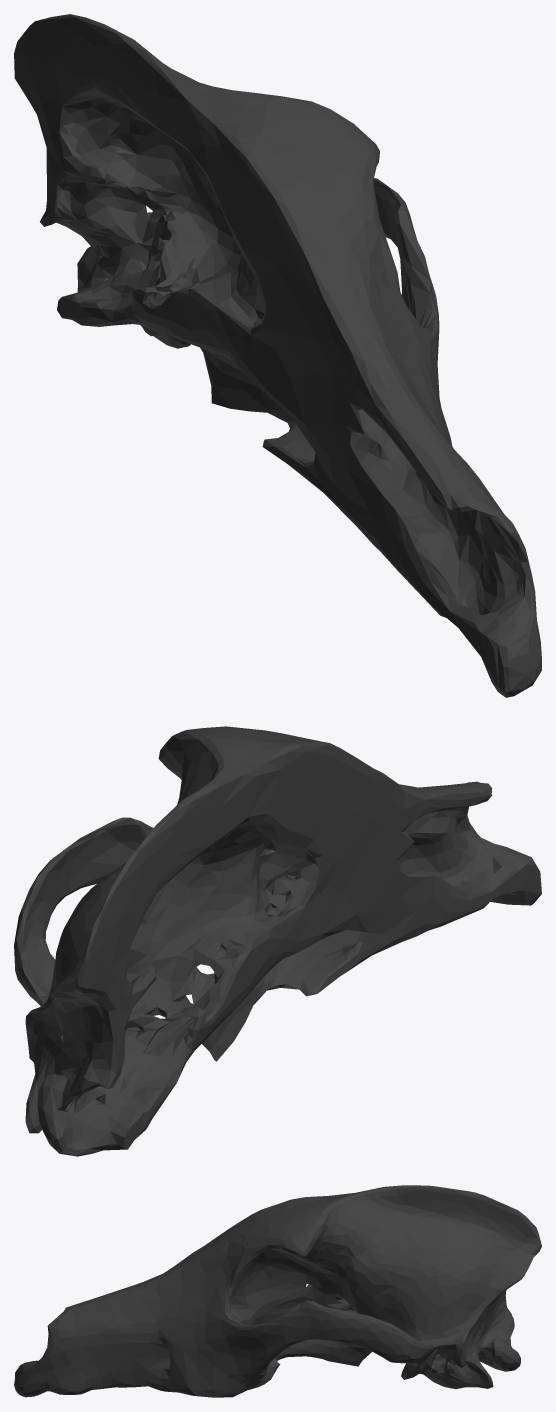
File: MAXILLA.glb
The picture shows the model from 3 angles, top to bottom: view 1: azimuth 30°, elevation 25°; view 2: azimuth 150°, elevation 25°; view 3: azimuth 270°, elevation 25°; orthographic projection. The views are drawn at different scales.
Visible parts, largest first — view 1: MAXILLA; view 2: MAXILLA; view 3: MAXILLA.
Part boxes in pixels (x1,y1,x2,y2): MAXILLA: (14,14,541,697); MAXILLA: (14,726,541,1156); MAXILLA: (14,1185,541,1397).
Bounding box in the file's own units: 0.676 × 1.18 × 2.75.
Materials: 1 (1 with a texture image).
